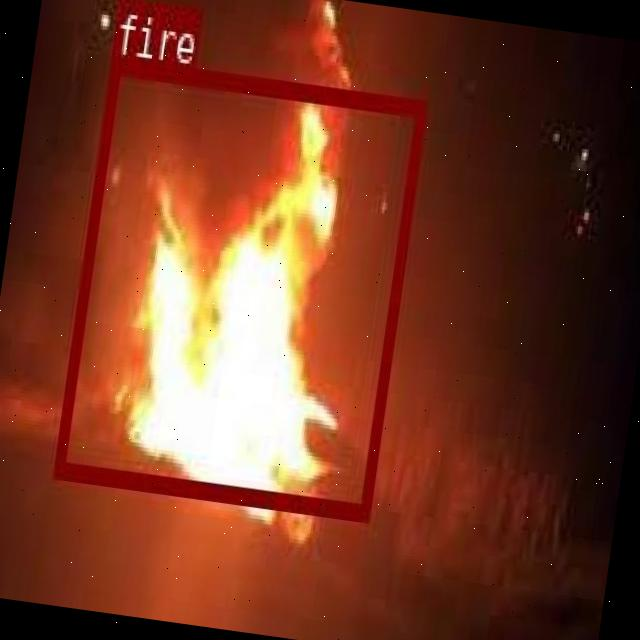fire: (54, 56, 426, 516)
